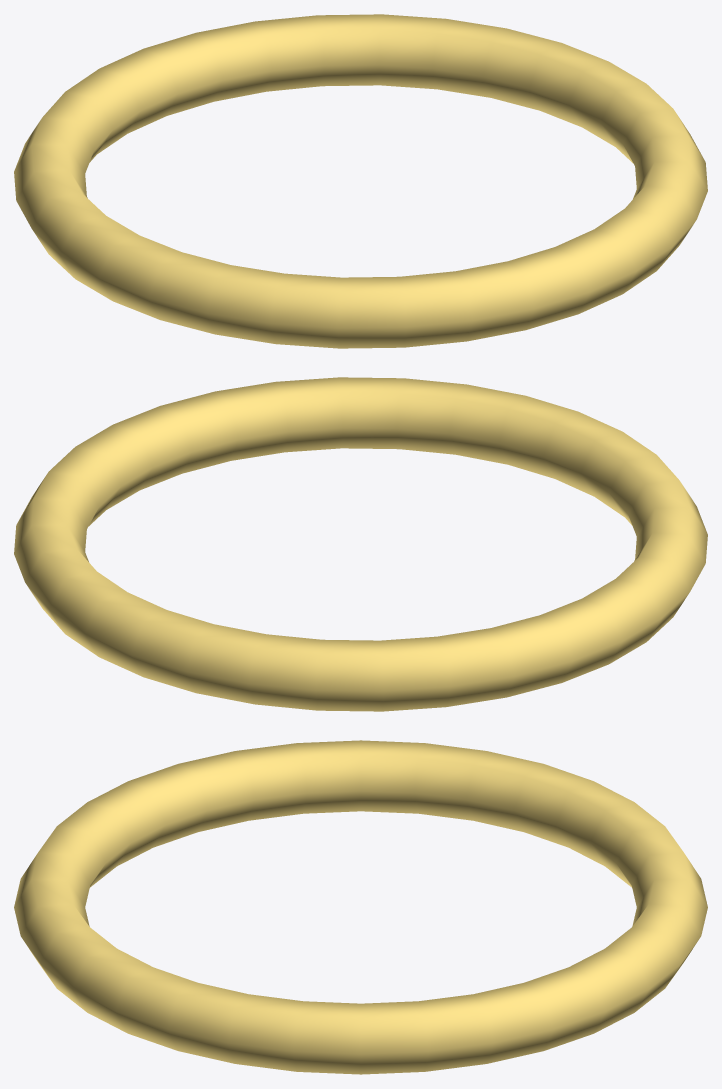
The model's file is misc_halo_prop_0.glb.
3 views of the same model, one above another, from view 1: azimuth 30°, elevation 25°; view 2: azimuth 150°, elevation 25°; view 3: azimuth 270°, elevation 25° (orthographic).
Visible parts, largest first — view 1: torus; view 2: torus; view 3: torus.
Boxes of the visible parts, box(x1,y1,x2,y2) form: torus: box(14, 14, 707, 348); torus: box(14, 377, 707, 711); torus: box(14, 740, 707, 1074).
Size of the model in its own units: 0.78 by 0.0693 by 0.78.
